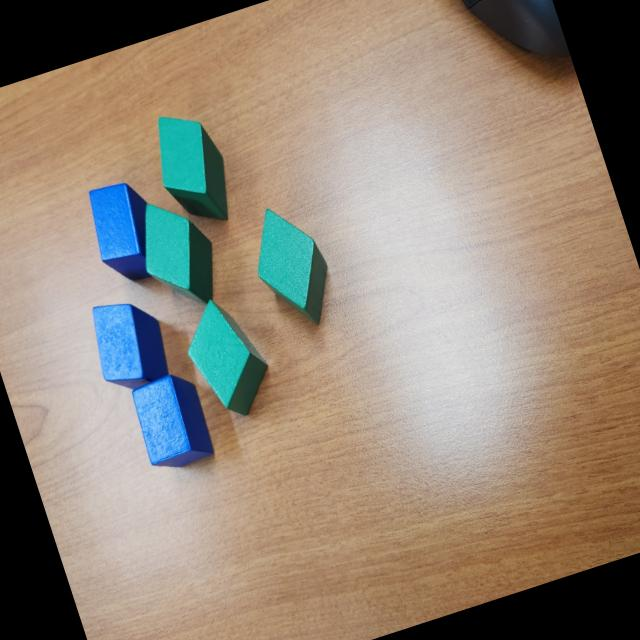blue: (80, 175, 170, 291), (82, 288, 176, 398), (125, 368, 219, 478)
green: (174, 289, 280, 427), (240, 196, 342, 338), (125, 188, 230, 320), (142, 102, 242, 236)
